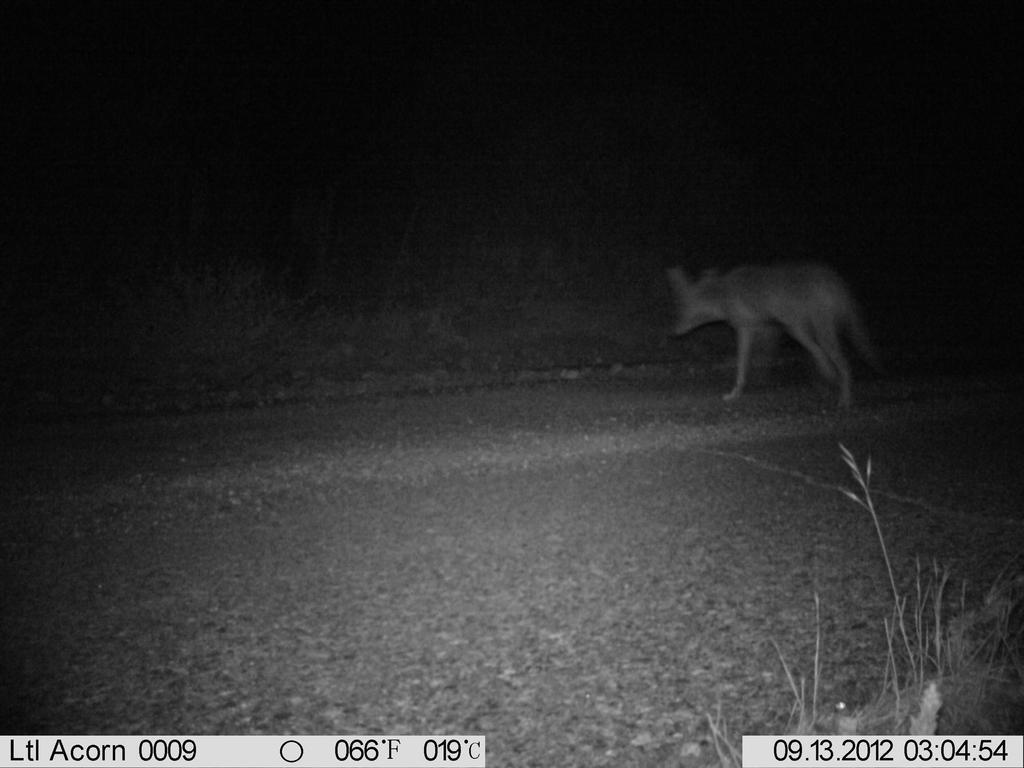coyote: (666, 253, 894, 421)
